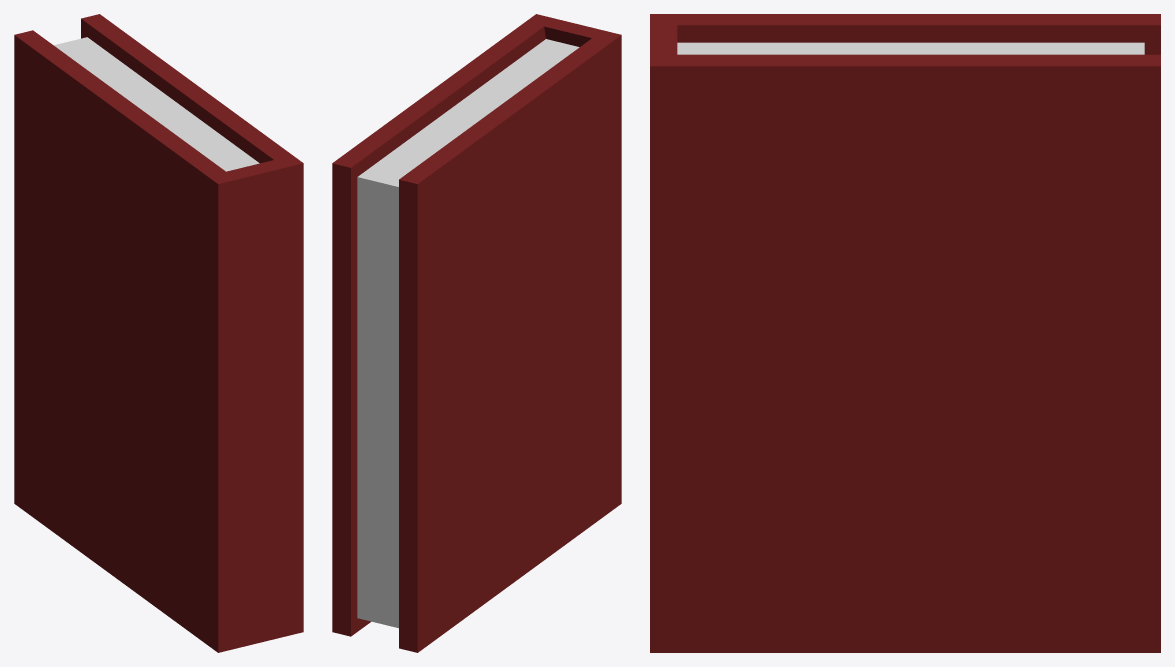
File: Book_Big.obj
The picture shows the model from 3 angles, left to right: view 1: azimuth 30°, elevation 25°; view 2: azimuth 150°, elevation 25°; view 3: azimuth 270°, elevation 25°; orthographic projection. The views are drawn at different scales.
Parts seen in each view (by area): view 1: Book_Big; view 2: Book_Big; view 3: Book_Big.
Boxes of the visible parts, box(x1,y1,x2,y2) form: Book_Big: box(14, 14, 303, 652); Book_Big: box(332, 14, 621, 652); Book_Big: box(650, 14, 1160, 652).
Bounding box in the file's own units: 0.0614 × 0.3213 × 0.2535.
